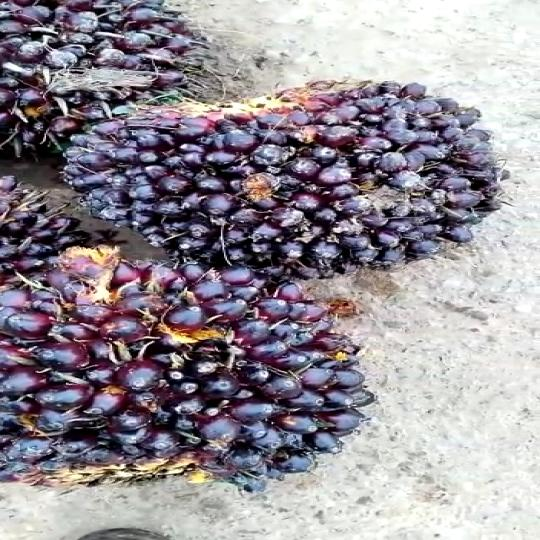kurang masak: (72, 73, 489, 290), (0, 263, 387, 496)
